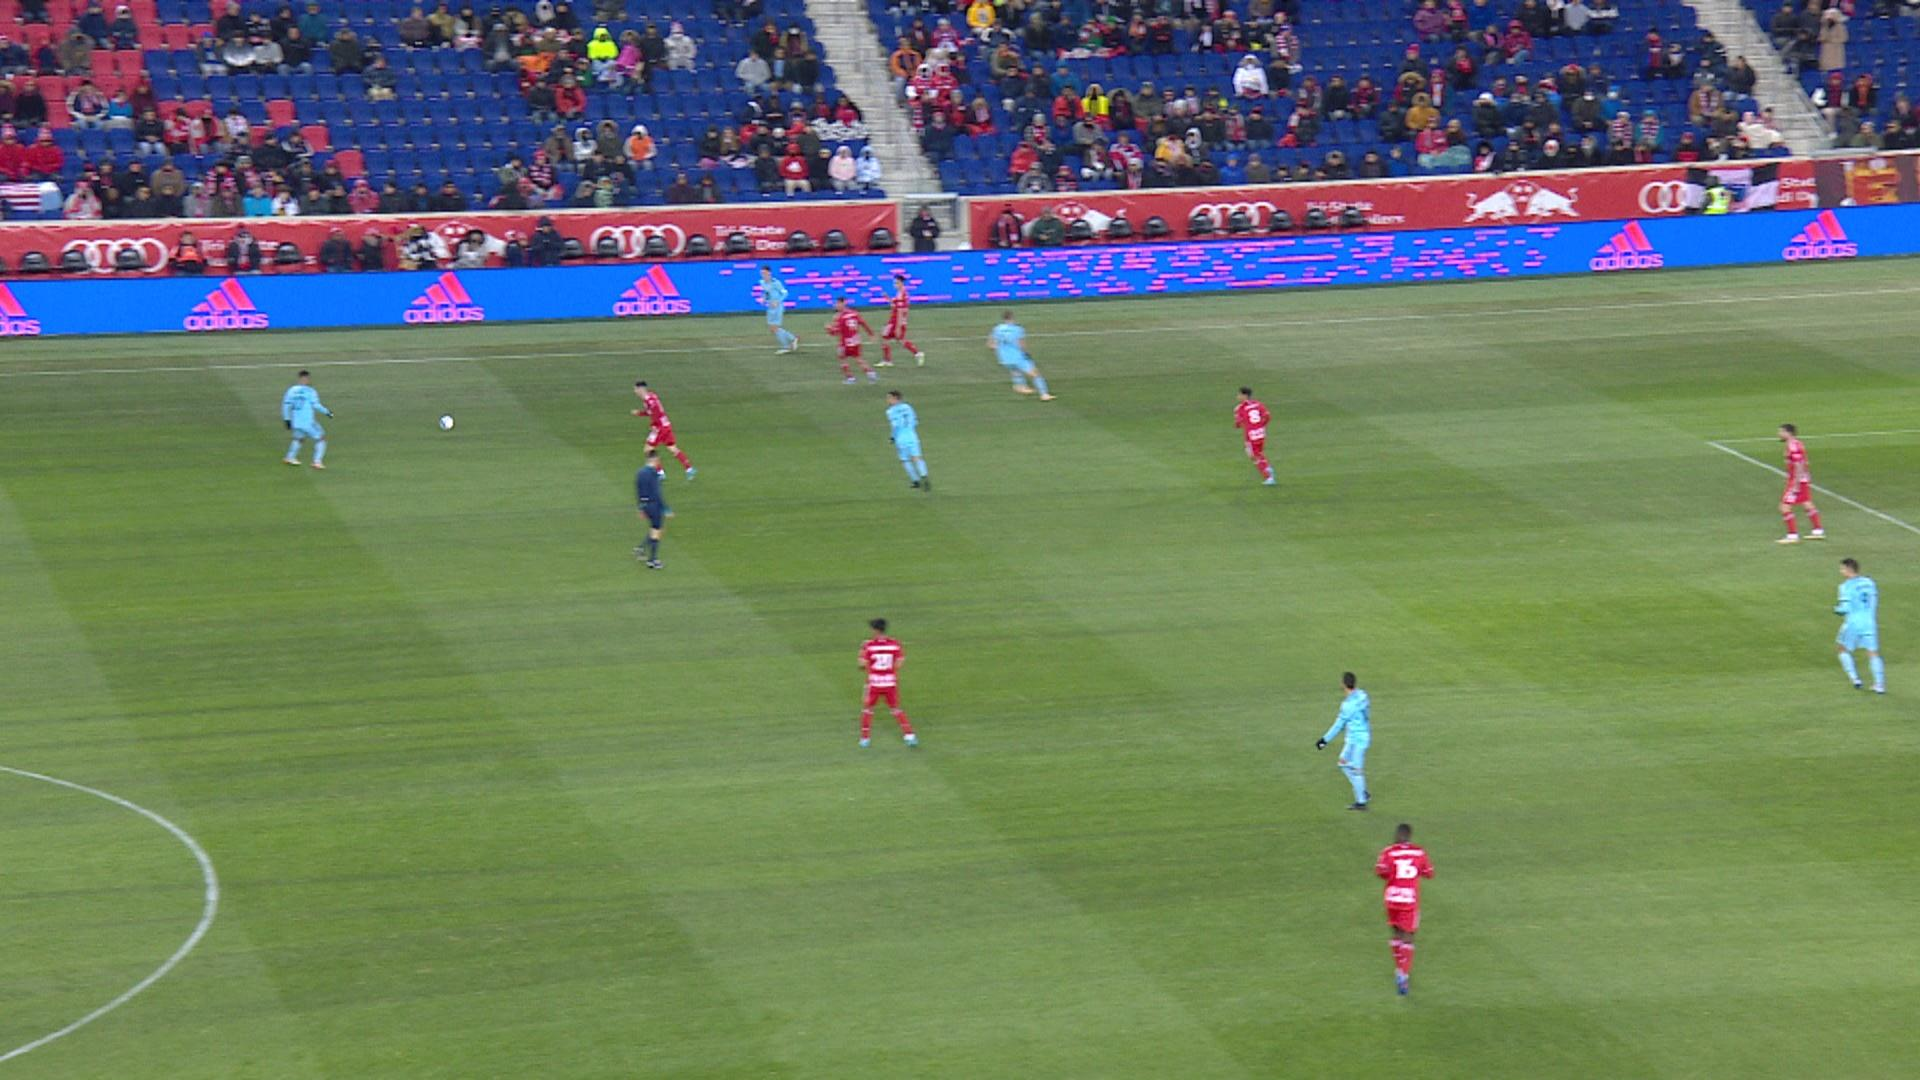football: (438, 412, 456, 433)
